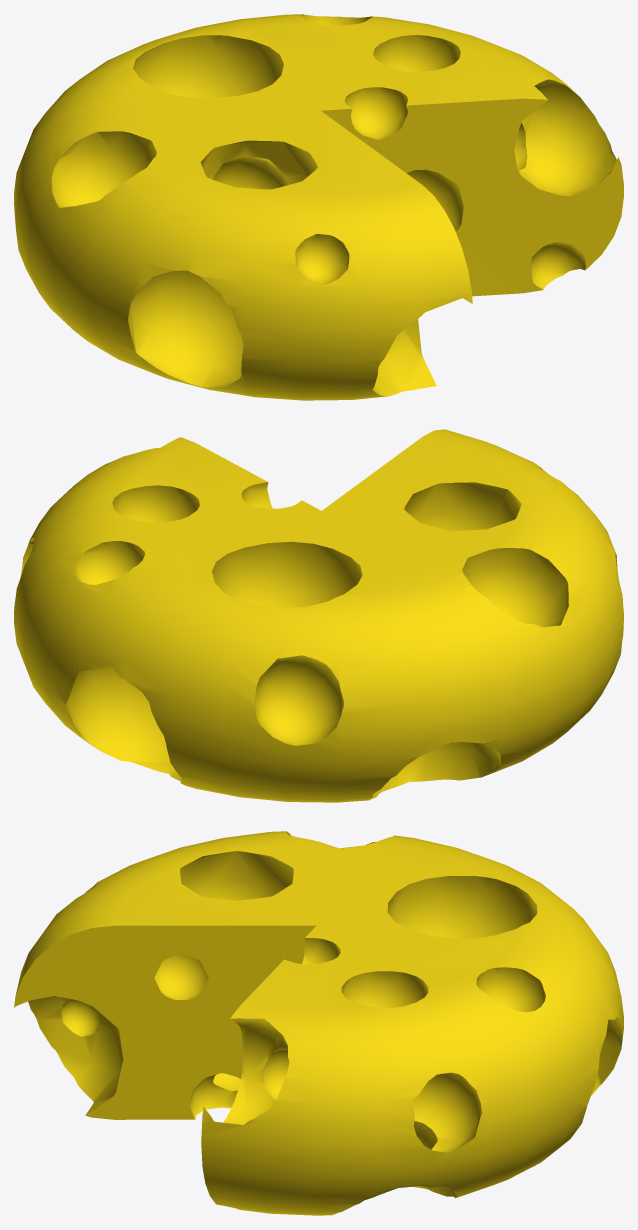
The model's file is cheese_applied.glb.
The picture shows the model from 3 angles, top to bottom: view 1: azimuth 30°, elevation 25°; view 2: azimuth 150°, elevation 25°; view 3: azimuth 270°, elevation 25°; orthographic projection.
Visible parts, largest first — view 1: cheese; view 2: cheese; view 3: cheese.
Boxes of the visible parts, x1,y1,x2,y2 form: cheese: (14, 14, 623, 400); cheese: (14, 429, 623, 802); cheese: (14, 831, 623, 1215).
Bounding box in the file's own units: 1.01 × 0.3526 × 1.
1 material, 1 textured.
